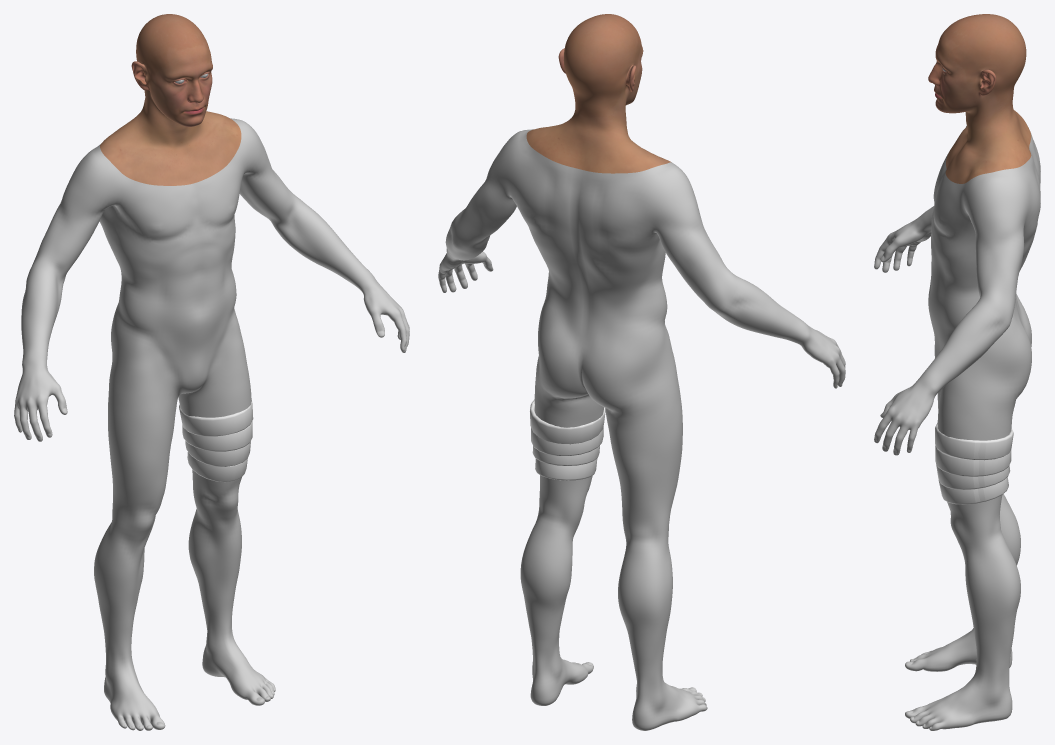
Rendered from thigh_pos_tape.fbx.
3 views of the same model, side by side, from view 1: azimuth 30°, elevation 25°; view 2: azimuth 150°, elevation 25°; view 3: azimuth 270°, elevation 25° (orthographic). The views are drawn at different scales.
Visible parts, largest first — view 1: Male body reference, Spiral; view 2: Male body reference, Spiral; view 3: Male body reference, Spiral.
Boxes of the visible parts, x1,y1,x2,y2 form: Male body reference: (14, 14, 409, 730); Spiral: (179, 400, 253, 482); Male body reference: (438, 14, 845, 730); Spiral: (530, 399, 605, 480); Male body reference: (874, 14, 1040, 730); Spiral: (935, 423, 1013, 504).
Bounding box in the file's own units: 106 × 174 × 38.9.
